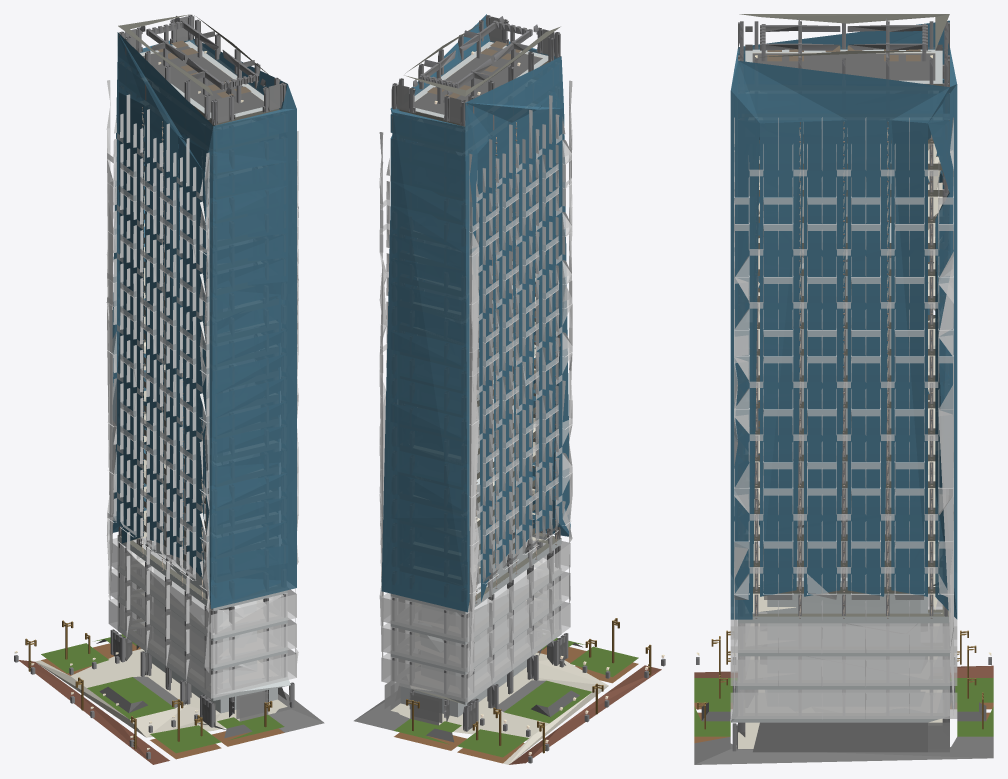
The picture shows the model from 3 angles, left to right: view 1: azimuth 30°, elevation 25°; view 2: azimuth 150°, elevation 25°; view 3: azimuth 270°, elevation 25°; orthographic projection. The views are drawn at different scales.
Parts seen in each view (by area): view 1: Object_3, Object_25, Object_4; view 2: Object_3, Object_25, Object_4; view 3: Object_3, Object_4, Object_25.
Boxes of the visible parts, box(x1,y1,x2,y2) form: Object_3: box(107, 16, 298, 721); Object_25: box(106, 80, 298, 698); Object_4: box(14, 14, 324, 764); Object_3: box(380, 14, 571, 725); Object_25: box(379, 80, 572, 702); Object_4: box(354, 15, 665, 764); Object_3: box(730, 20, 957, 752); Object_4: box(694, 14, 993, 764); Object_25: box(730, 69, 957, 719).
Bounding box in the file's own units: 31.63 × 106 × 41.
